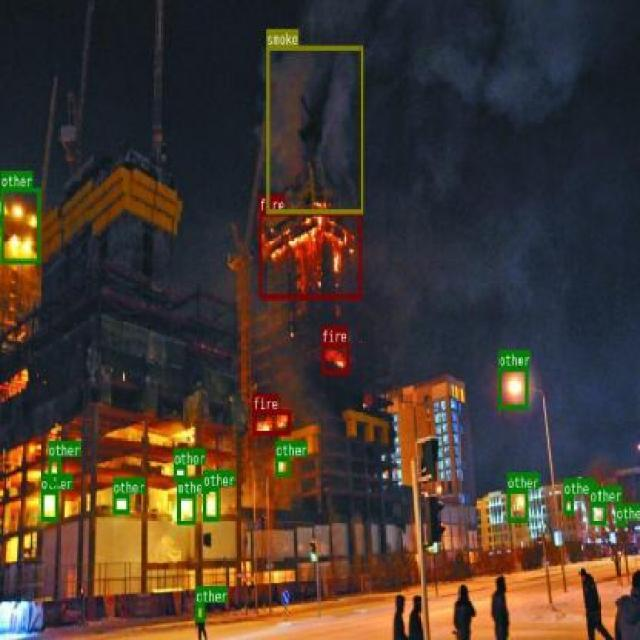Fire: (258, 211, 362, 297), (252, 410, 290, 435), (321, 341, 348, 374)
Smoke: (266, 44, 362, 212)
